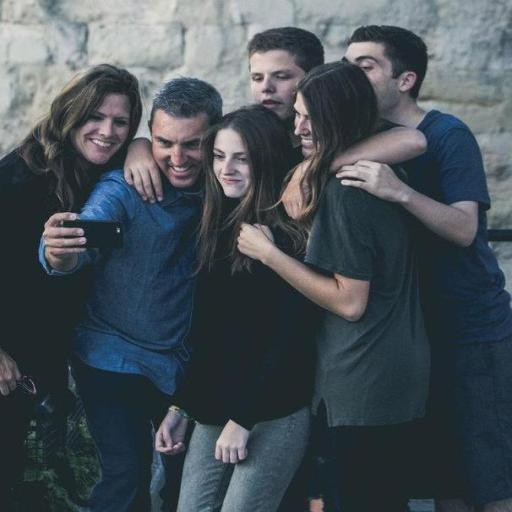person: (238, 62, 429, 511), (340, 26, 511, 511), (40, 78, 222, 511), (156, 106, 314, 511), (0, 64, 141, 510), (248, 27, 323, 163)
